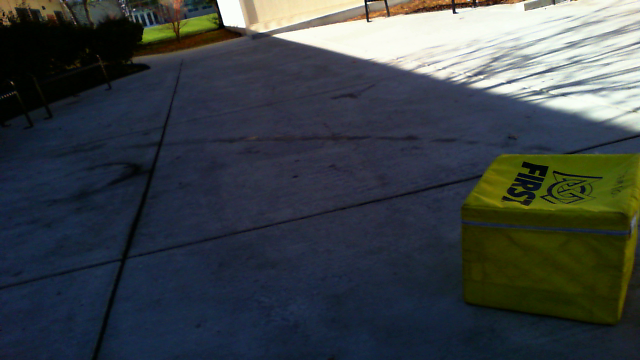cube: (460, 154, 640, 325)
